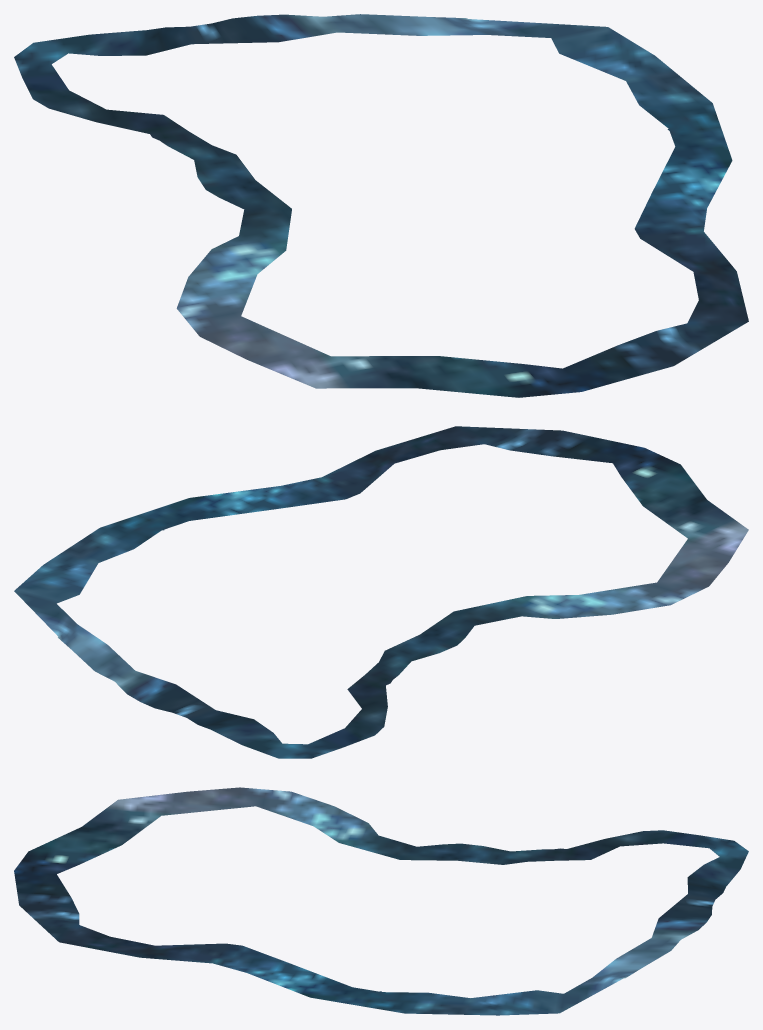
File: shuigaoguang.FBX
The picture shows the model from 3 angles, top to bottom: view 1: azimuth 30°, elevation 25°; view 2: azimuth 150°, elevation 25°; view 3: azimuth 270°, elevation 25°; orthographic projection. The views are drawn at different scales.
Visible parts, largest first — view 1: Object001; view 2: Object001; view 3: Object001.
Boxes of the visible parts, left/top/right/bottom form: Object001: left=14, top=14, right=748, bottom=397; Object001: left=14, top=426, right=748, bottom=758; Object001: left=14, top=787, right=748, bottom=1015.
Size of the model in its own units: 519 by 0.00029 by 707.
